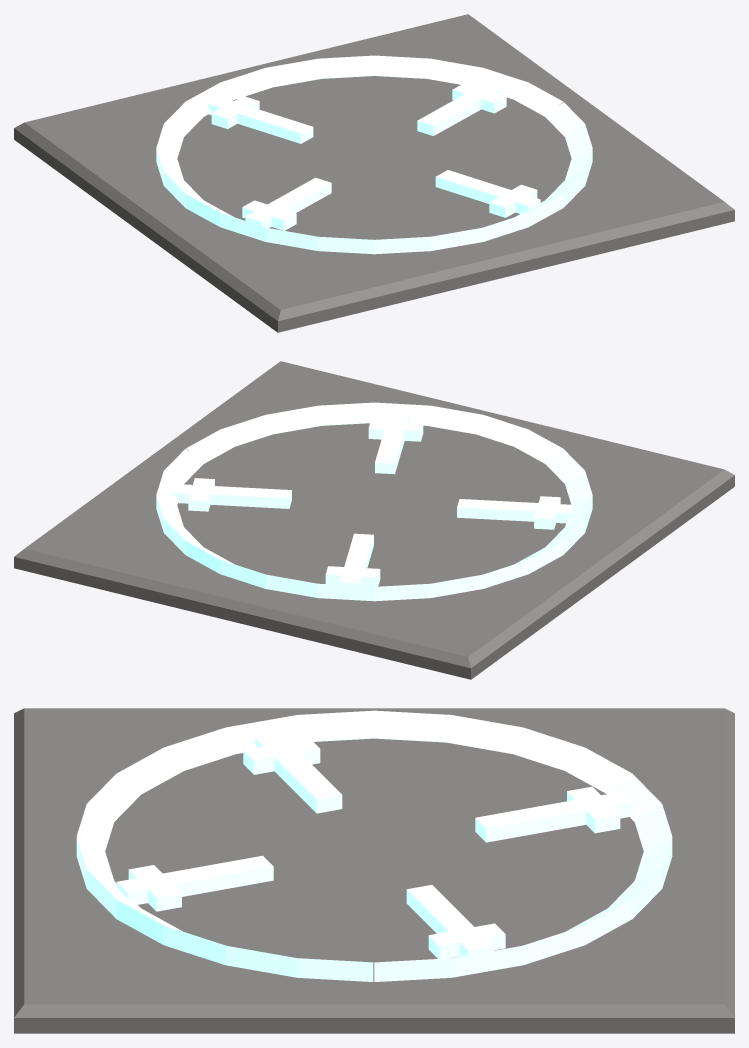
File: ob_rune1.glb
The picture shows the model from 3 angles, top to bottom: view 1: azimuth 30°, elevation 25°; view 2: azimuth 150°, elevation 25°; view 3: azimuth 270°, elevation 25°; orthographic projection. The views are drawn at different scales.
Bounding box in the file's own units: 0.0416 × 0.00285 × 0.0416.
